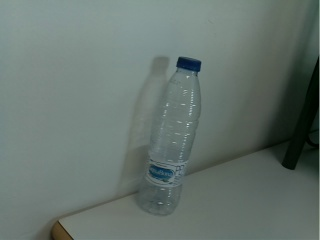botella plastico: (133, 49, 208, 220)
